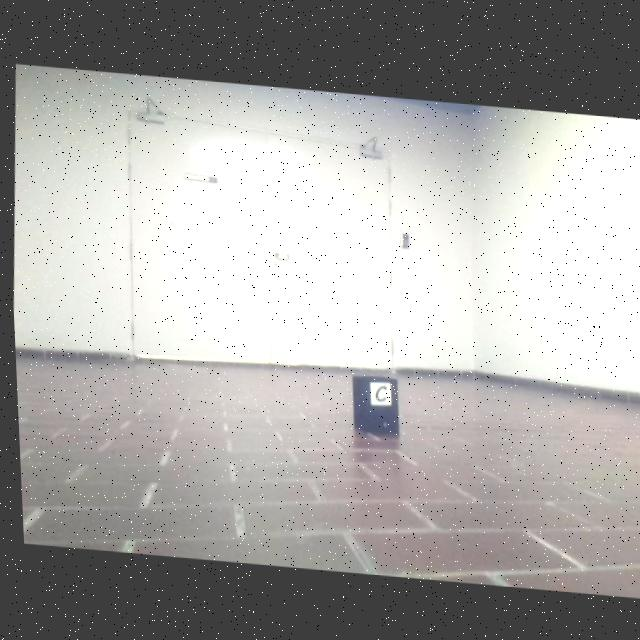C: (373, 383, 383, 400)
